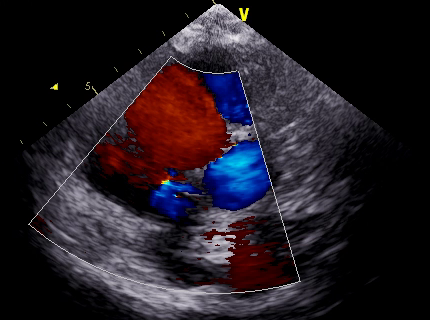TR: (145, 146, 208, 217)
